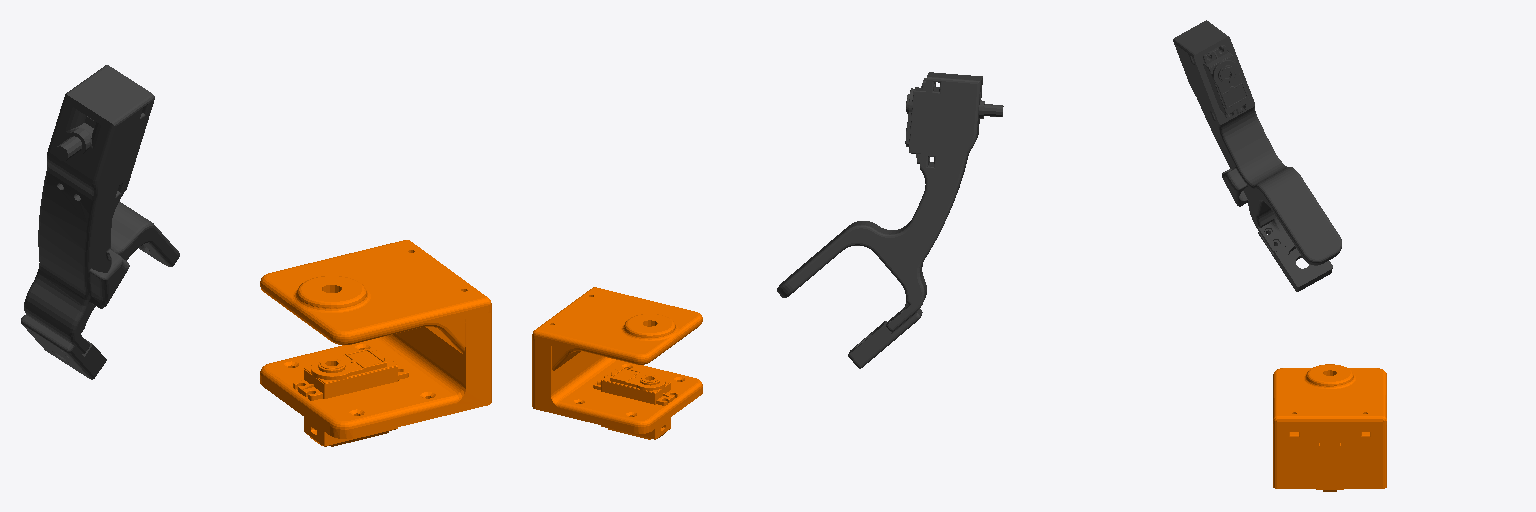
The robot description file, URDF, robot "Assem1":
<?xml version="1.0" encoding="utf-8"?>
<!-- This URDF was automatically created by SolidWorks to URDF Exporter! -->

<robot name="Assem1">

 <!-- Root Link: Clamp -->
<link name="Clamp">
  <visual>
    <origin xyz="0 0 0" rpy="0 0 0" />
    <geometry>
      <mesh filename="package://Assem1/meshes/Clamp.STL" />
    </geometry>
    <material name="">
      <color rgba="1 0.5 0 1" />
    </material>
  </visual>
  <collision>
    <origin xyz="0 0 0" rpy="0 0 0" />
    <geometry>
      <mesh filename="package://Assem1/meshes/Clamp.STL" />
    </geometry>
  </collision>
</link>

  <!-- Link: BaseBottom -->
  <link name="BaseBottom">
    <inertial>
      <origin xyz="0.027516 0.014617 -5.3932E-08" rpy="0 0 0" />
      <mass value="0.10485" />
      <inertia ixx="7.271E-05" ixy="-1.7562E-05" ixz="3.3609E-12" iyy="0.00011017" iyz="-4.0092E-11" izz="7.6148E-05" />
    </inertial>
    <visual>
      <origin xyz="0 0 0" rpy="1.5708 0 0" />
      <geometry>
        <mesh filename="package://Assem1/meshes/BaseBottom.STL" />
      </geometry>
      <material name="">
        <color rgba="1 0.5 0 1" />
      </material>
    </visual>
    <collision>
      <origin xyz="0 0 0" rpy="0 0 0" />
      <geometry>
        <mesh filename="package://Assem1/meshes/BaseBottom.STL" />
      </geometry>
    </collision>
  </link>

  <!-- Joint: BaseCoincident -->
  <joint name="BaseCoincident" type="fixed">
    <origin xyz="-0.042533 -0.12096 0.069938" rpy="0 0 0" />
    <parent link="Clamp" />
    <child link="BaseBottom" />
    <axis xyz="0 0 0" />
  </joint>

  <!-- Link: Basetop -->
  <link name="Basetop">
    <inertial>
      <origin xyz="0.017744 0.050216 5.5971E-08" rpy="0 0 0" />
      <mass value="0.061686" />
      <inertia ixx="3.3277E-05" ixy="3.1323E-06" ixz="6.4171E-11" iyy="6.5761E-05" iyz="5.3966E-12" izz="3.5972E-05" />
    </inertial>
    <visual>
      <origin xyz="0 0 0" rpy="0 0 0" />
      <geometry>
        <mesh filename="package://Assem1/meshes/Basetop.STL" />
      </geometry>
      <material name="">
        <color rgba="1 0.5 0 1" />
      </material>
    </visual>
    <collision>
      <origin xyz="0 0 0" rpy="0 0 0" />
      <geometry>
        <mesh filename="package://Assem1/meshes/Basetop.STL" />
      </geometry>
    </collision>
  </link>

  <!-- Joint: Basetop_coincident -->
  <joint name="Basetop_coincident" type="fixed">
    <origin xyz="0 0 0" rpy="1.5708 0 0" />
    <parent link="BaseBottom" />
    <child link="Basetop" />
    <axis xyz="0 0 0" />
  </joint>

  <!-- Link: Link1 -->
  <link name="Link1">
    <inertial>
      <origin xyz="-0.073232 -0.1745 0.015767" rpy="0 0 0" />
      <mass value="0.13439" />
      <inertia ixx="7.1758E-05" ixy="0.00011693" ixz="3.8198E-07" iyy="0.00034167" iyz="8.0268E-07" izz="0.00038897" />
    </inertial>
    <visual>
      <origin xyz="0 0 0" rpy="0 0 0" />
      <geometry>
        <mesh filename="package://Assem1/meshes/Link1.STL" />
      </geometry>
      <material name="">
        <color rgba="0.3 0.3 0.3 1" />
      </material>
    </visual>
    <collision>
      <origin xyz="0 0 0" rpy="0 0 0" />
      <geometry>
        <mesh filename="package://Assem1/meshes/Link1.STL" />
      </geometry>
    </collision>
  </link>

  <!-- Joint: Base_Revolute -->
  <joint name="Base_Revolute" type="revolute">
    <origin xyz="-0.011931 0.2308 -0.014931" rpy="0 0.12246 0" />
    <parent link="Basetop" />
    <child link="Link1" />
    <axis xyz="0 1 0" />
    <limit lower="-1.57" upper="1.57" effort="10" velocity="1" />
  </joint>

  <!-- Link: Link2 -->
  <link name="Link2">
    <inertial>
      <origin xyz="-0.14211 -0.03561 0.00027708" rpy="0 0 0" />
      <mass value="0.14126" />
      <inertia ixx="0.00022787" ixy="8.7681E-05" ixz="1.3203E-07" iyy="0.00010115" iyz="8.5903E-07" izz="0.00030502" />
    </inertial>
    <visual>
      <origin xyz="0 0 0" rpy="0 0 0" />
      <geometry>
        <mesh filename="package://Assem1/meshes/Link2.STL" />
      </geometry>
      <material name="">
        <color rgba="0.3 0.3 0.3 1" />
      </material>
    </visual>
    <collision>
      <origin xyz="0 0 0" rpy="0 0 0" />
      <geometry>
        <mesh filename="package://Assem1/meshes/Link2.STL" />
      </geometry>
    </collision>
  </link>

  <!-- Joint: Revolute_2 -->
  <joint name="Revolute_2" type="revolute">
    <origin xyz="-0.033505 -0.033505 0.015" rpy="0.34542 0.32648 0.057449" />
    <parent link="Link1" />
    <child link="Link2" />
    <axis xyz="0.70711 0.70711 0" />
    <limit lower="-1.57" upper="1.57" effort="10" velocity="1" />
  </joint>

  <!-- Link: Link3 -->
  <link name="Link3">
    <inertial>
      <origin xyz="-0.15007 -0.043098 1.8252E-06" rpy="0 0 0" />
      <mass value="0.14347" />
      <inertia ixx="0.00022731" ixy="9.6672E-05" ixz="3.6072E-09" iyy="0.00015405" iyz="-3.4694E-09" izz="0.0003606" />
    </inertial>
    <visual>
      <origin xyz="0 0 0" rpy="0 0 0" />
      <geometry>
        <mesh filename="package://Assem1/meshes/Link3.STL" />
      </geometry>
      <material name="">
        <color rgba="0.3 0.3 0.3 1" />
      </material>
    </visual>
    <collision>
      <origin xyz="0 0 0" rpy="0 0 0" />
      <geometry>
        <mesh filename="package://Assem1/meshes/Link3.STL" />
      </geometry>
    </collision>
  </link>

  <!-- Joint: Revolute3 -->
  <joint name="Revolute3" type="revolute">
    <origin xyz="0 0.033257 0" rpy="-0.13898 -0.13765 -0.7758" />
    <parent link="Link2" />
    <child link="Link3" />
    <axis xyz="0.70711 0.70711 0" />
    <limit lower="-1.57" upper="1.57" effort="10" velocity="1" />
  </joint>

</robot>

--- Facts derived from the render (not from the file) ---
The picture shows the robot from 3 angles, left to right: view 1: azimuth 30°, elevation 25°; view 2: azimuth 150°, elevation 25°; view 3: azimuth 270°, elevation 25°; orthographic projection.
Model Assem1 with 6 links and 5 joints (3 revolute, 2 fixed), rooted at Clamp, posed every joint at zero.
Links seen in each view (by area): view 1: Link2, BaseBottom, Basetop; view 2: Link2, BaseBottom, Basetop; view 3: Link2, Basetop, BaseBottom.
Link boxes in pixels (<box>): Link2: <box>21,65,179,379</box>; BaseBottom: <box>260,311,491,446</box>; Basetop: <box>260,240,491,353</box>; Link2: <box>777,72,1003,368</box>; BaseBottom: <box>532,340,702,439</box>; Basetop: <box>532,287,702,370</box>; Link2: <box>1173,20,1341,291</box>; Basetop: <box>1273,364,1386,445</box>; BaseBottom: <box>1273,426,1386,491</box>.
Bounding box of the posed robot: 0.2721 × 0.1503 × 0.2622 m (x, y, z).
3 mesh visuals loaded from 6 distinct referenced files (3 binary STL); not drawn: 3 (reference not matched to a file when rendering).
